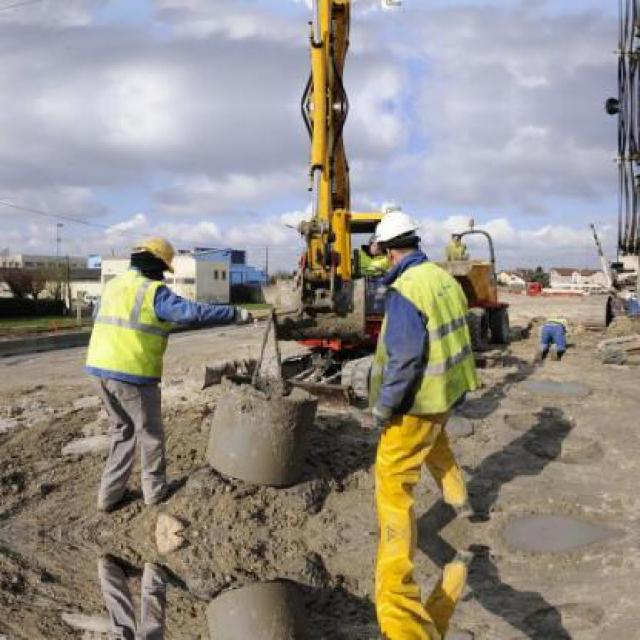Helmet: (375, 210, 420, 262), (131, 233, 174, 270)
